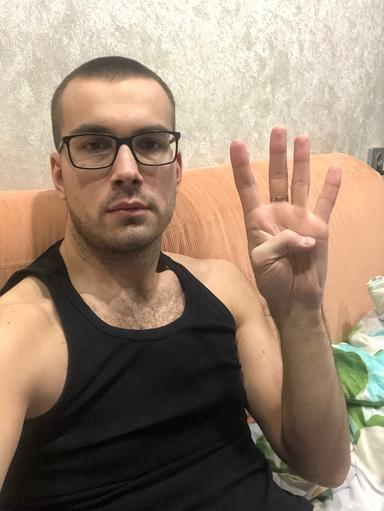four: (226, 124, 344, 309)
